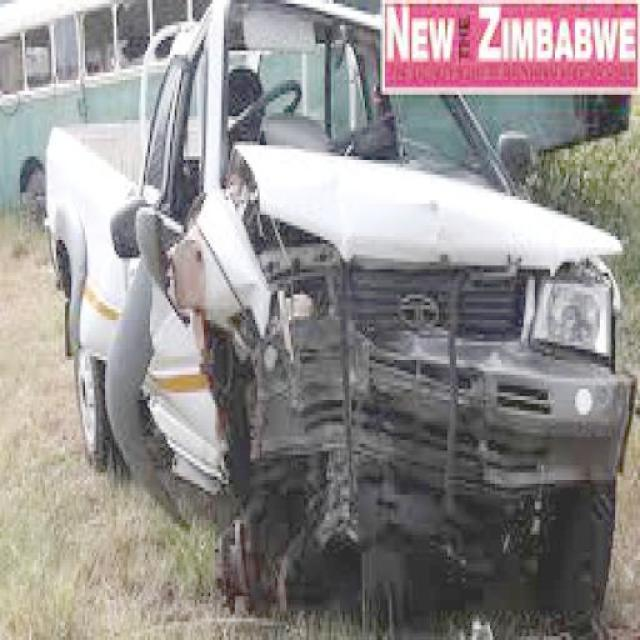car damage: (108, 137, 609, 561)
